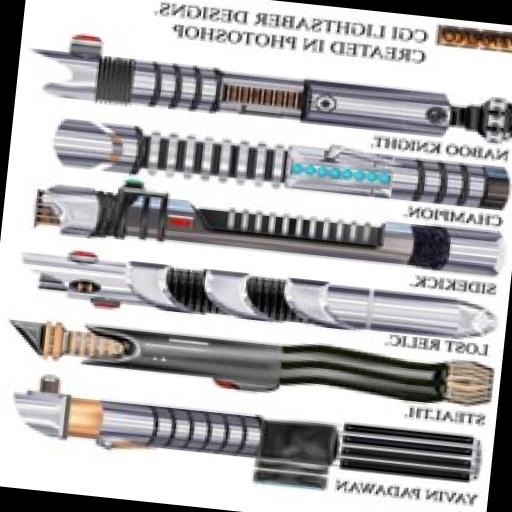lightsaber: (25, 25, 512, 152), (8, 376, 483, 492), (0, 310, 494, 413), (29, 173, 507, 277), (14, 242, 498, 343), (50, 114, 512, 217)
